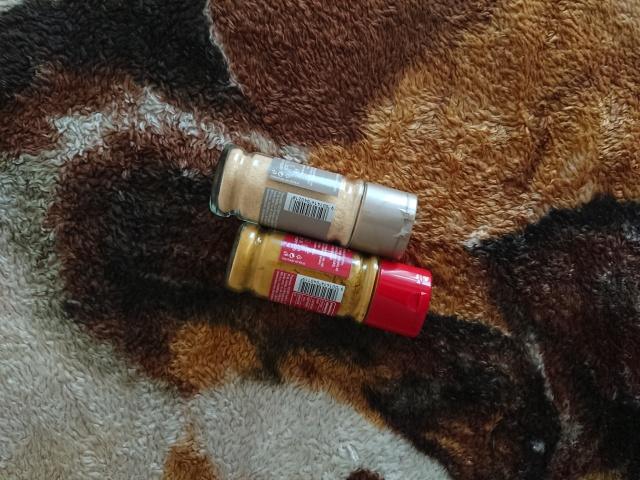Kotanyi Curry Spices Mix 70g: (221, 219, 435, 341)
Kotanyi Garlic Granules 70g: (205, 141, 420, 263)
